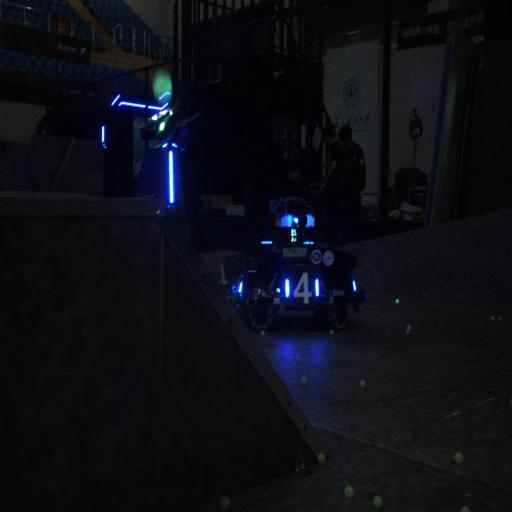target: (281, 262, 322, 309)
